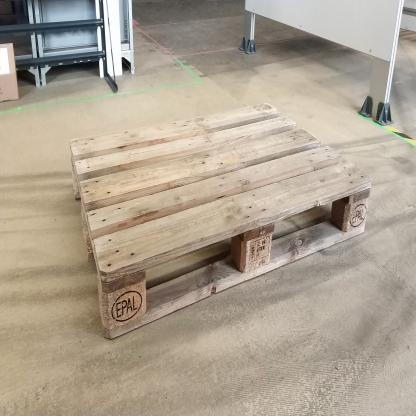BoxFace: (67, 93, 376, 350)
